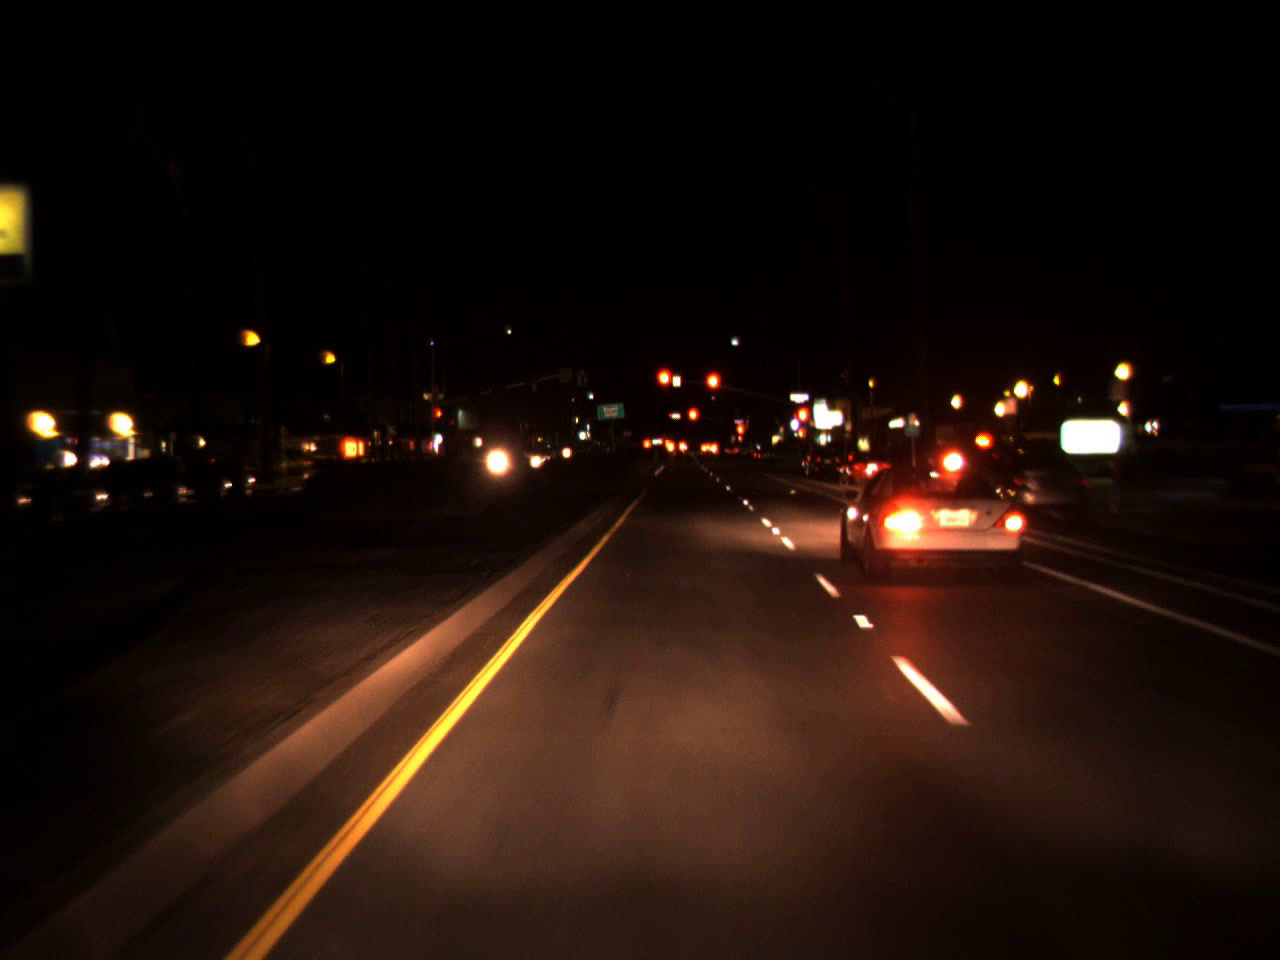stop: (654, 366, 675, 406), (703, 369, 722, 409), (734, 420, 746, 463), (687, 406, 699, 435), (797, 408, 807, 432), (434, 408, 443, 429)
